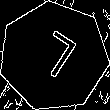L_SW: (27, 27, 80, 87)
